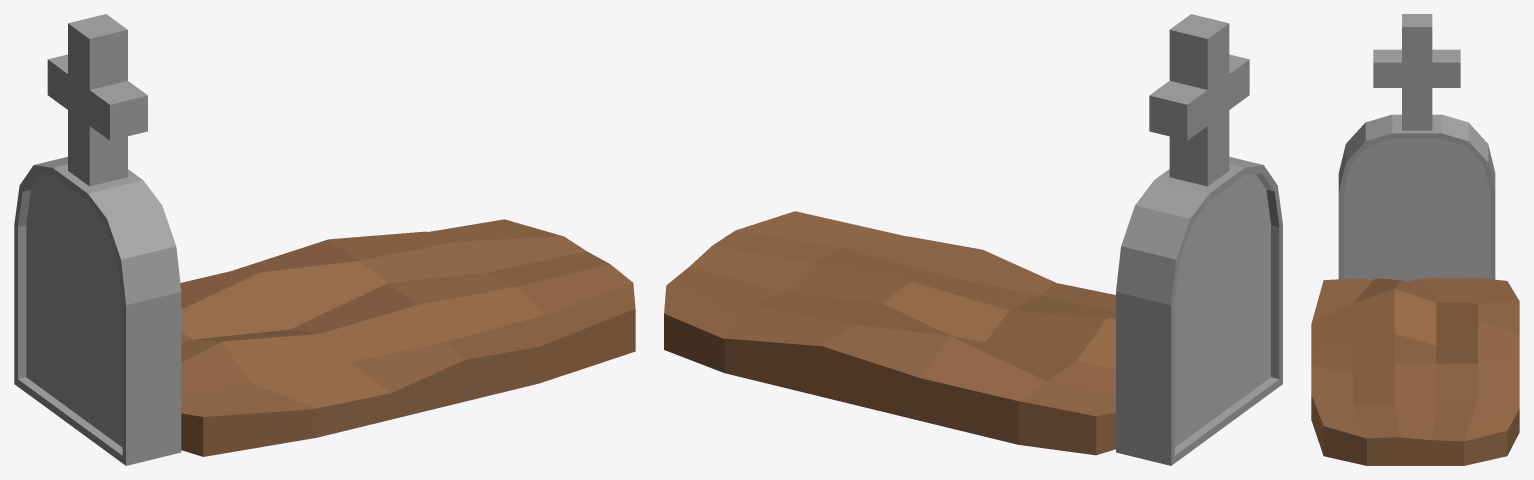
Rendered from grave.fbx.
3 views of the same model, side by side, from view 1: azimuth 30°, elevation 25°; view 2: azimuth 150°, elevation 25°; view 3: azimuth 270°, elevation 25° (orthographic). The views are drawn at different scales.
Parts seen in each view (by area): view 1: Plane, Plane.001; view 2: Plane, Plane.001; view 3: Plane, Plane.001.
Part boxes in pixels (bbox=[...]): Plane: bbox=[180, 219, 635, 456]; Plane.001: bbox=[14, 14, 181, 465]; Plane: bbox=[664, 211, 1115, 455]; Plane.001: bbox=[1116, 14, 1282, 465]; Plane: bbox=[1311, 277, 1519, 465]; Plane.001: bbox=[1338, 14, 1495, 281].
Bounding box in the file's own units: 111 × 78.52 × 53.9.
